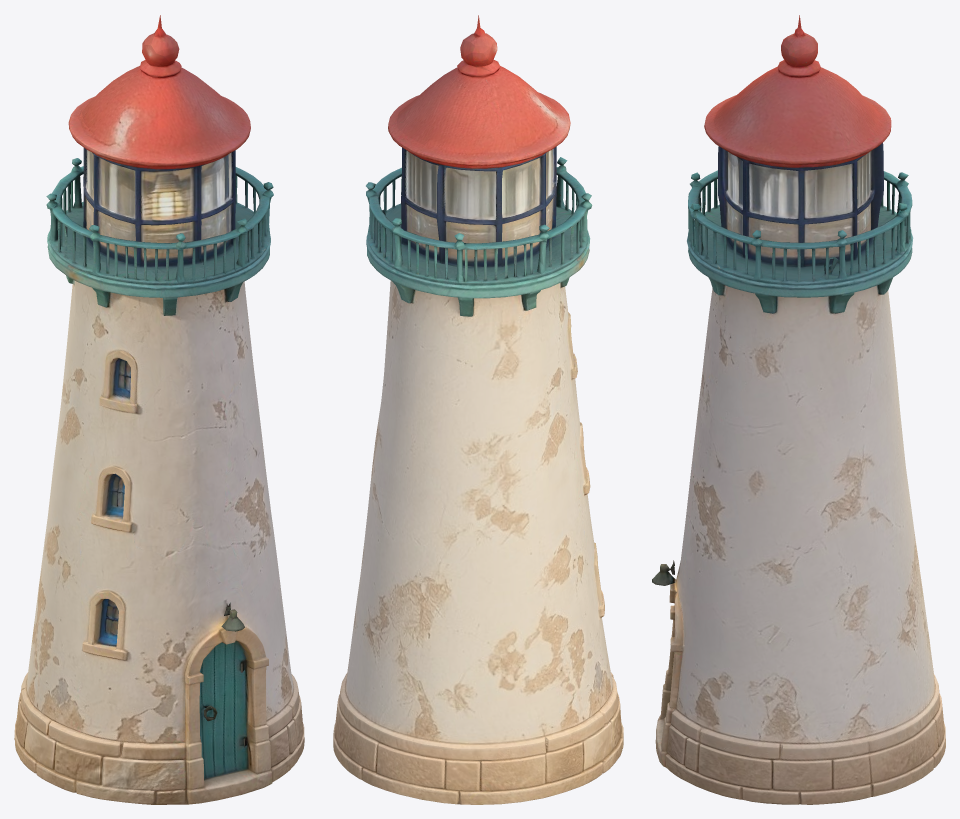
Rendered from lighthouse.glb.
The picture shows the model from 3 angles, left to right: view 1: azimuth 30°, elevation 25°; view 2: azimuth 150°, elevation 25°; view 3: azimuth 270°, elevation 25°; orthographic projection.
Parts seen in each view (by area): view 1: model; view 2: model; view 3: model.
Part boxes in pixels (left/top/right/bottom): model: left=14, top=15, right=304, bottom=804; model: left=333, top=15, right=623, bottom=804; model: left=652, top=15, right=945, bottom=804.
Bounding box in the file's own units: 8.58 × 24 × 8.72.
Materials: 1 (1 with a texture image).
